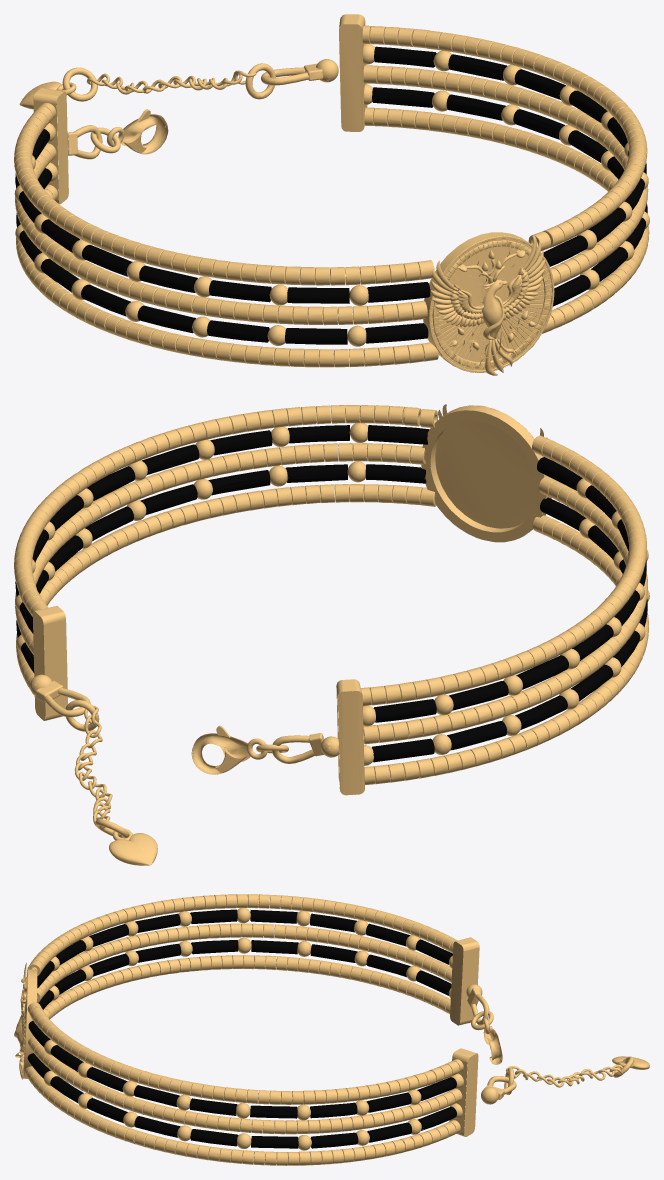
File: simurg-bracelet_compressed.glb
3 views of the same model, one above another, from view 1: azimuth 30°, elevation 25°; view 2: azimuth 150°, elevation 25°; view 3: azimuth 270°, elevation 25° (orthographic). The views are drawn at different scales.
Visible parts, largest first — view 1: Mesh_1.013; view 2: Mesh_1.013; view 3: Mesh_1.013.
Part boxes in pixels (left/top/right/bottom): Mesh_1.013: left=14, top=14, right=649, bottom=375; Mesh_1.013: left=14, top=404, right=649, bottom=865; Mesh_1.013: left=14, top=894, right=649, bottom=1165.
Bounding box in the file's own units: 55.46 × 14.32 × 73.73.
